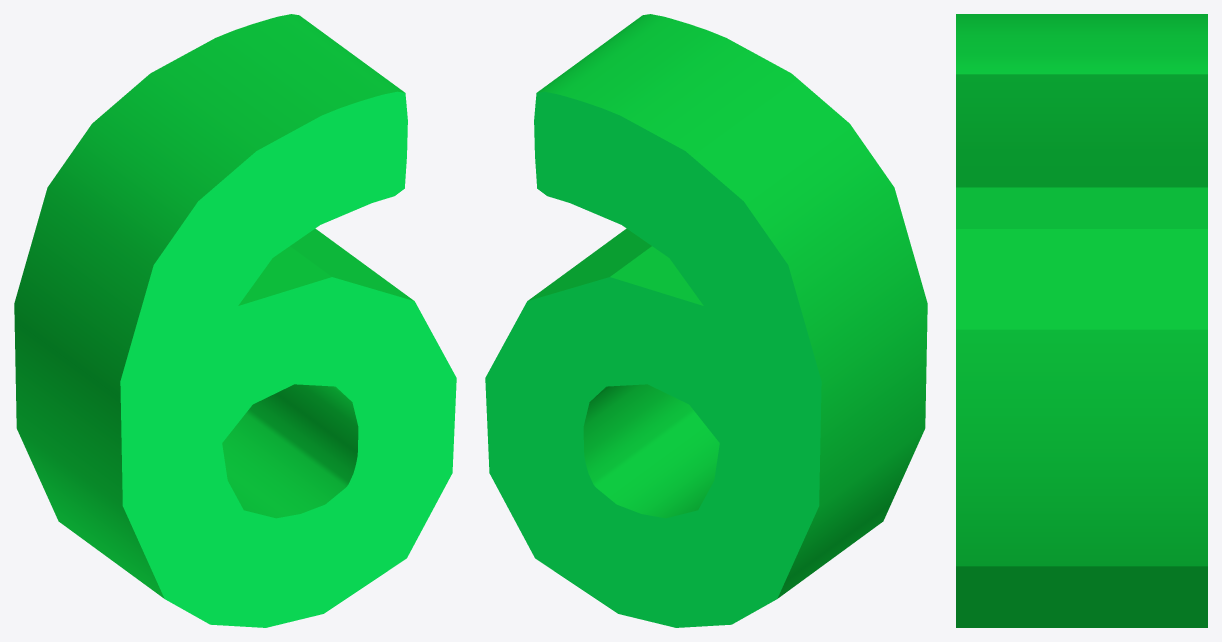
The model's file is 9e44dd1a-7072-4daf-94c1-c63f743e12ab.glb.
The picture shows the model from 3 angles, left to right: view 1: azimuth 30°, elevation 25°; view 2: azimuth 150°, elevation 25°; view 3: azimuth 270°, elevation 25°; orthographic projection. The views are drawn at different scales.
Visible parts, largest first — view 1: 6_Zyzol_Green; view 2: 6_Zyzol_Green; view 3: 6_Zyzol_Green.
Boxes of the visible parts, x1=… form: 6_Zyzol_Green: x1=14, y1=14, x2=456, y2=627; 6_Zyzol_Green: x1=485, y1=14, x2=927, y2=627; 6_Zyzol_Green: x1=956, y1=14, x2=1207, y2=627.
Size of what is drawn, in the model's own units: 0.0823 by 0.1181 by 0.045.
Materials: 2 (2 with a texture image).
